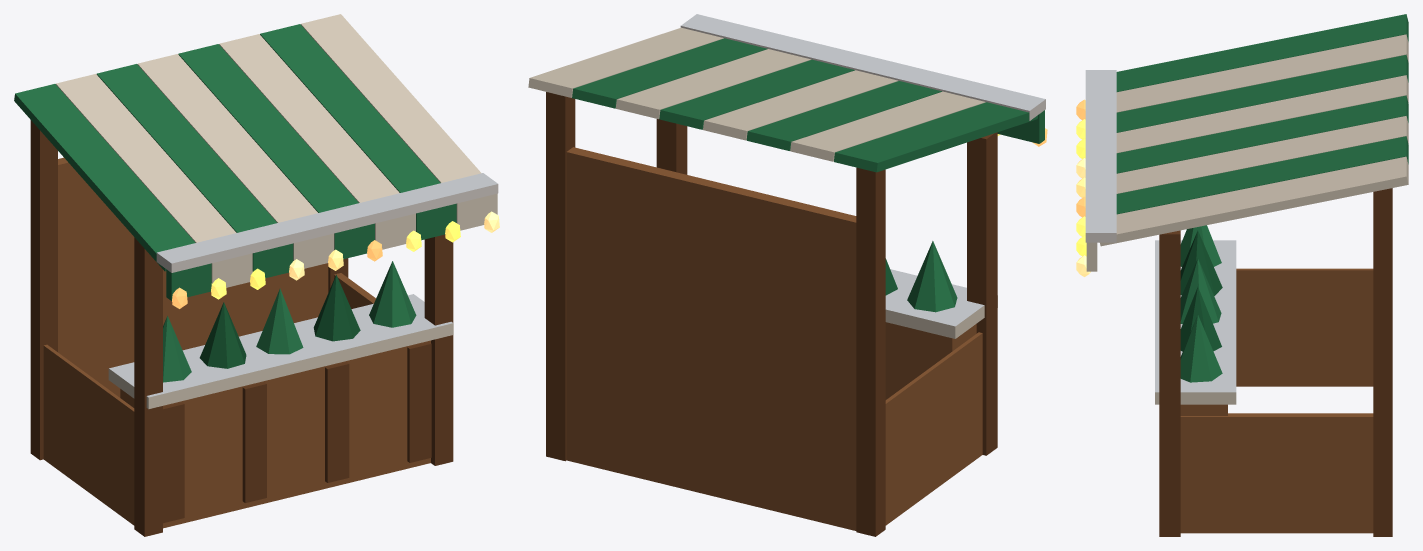
The model's file is Stall_Green.glb.
3 views of the same model, side by side, from view 1: azimuth 30°, elevation 25°; view 2: azimuth 150°, elevation 25°; view 3: azimuth 270°, elevation 25° (orthographic). The views are drawn at different scales.
Parts seen in each view (by area): view 1: Stall_Green_Stall, Stall_Green_Canopy, Stall_Green_Lights; view 2: Stall_Green_Stall, Stall_Green_Canopy; view 3: Stall_Green_Stall, Stall_Green_Canopy, Stall_Green_Lights.
Boxes of the visible parts, <box> form: Stall_Green_Stall: <box>30,120,453,536</box>; Stall_Green_Canopy: <box>14,14,498,300</box>; Stall_Green_Lights: <box>172,211,499,308</box>; Stall_Green_Stall: <box>546,92,997,536</box>; Stall_Green_Canopy: <box>528,14,1045,172</box>; Stall_Green_Stall: <box>1155,188,1392,536</box>; Stall_Green_Canopy: <box>1085,14,1408,271</box>; Stall_Green_Lights: <box>1076,99,1090,276</box>.
Size of the model in its own units: 9 by 9.4 by 7.76.
